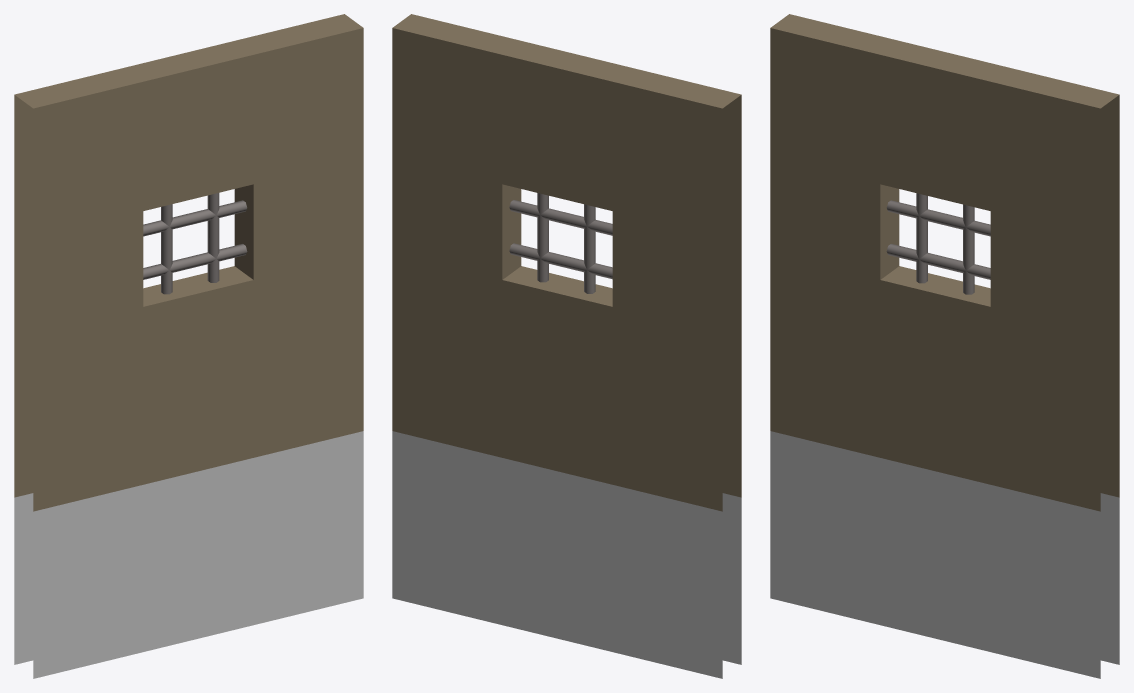
File: SM_Wall_Window_200.FBX
The picture shows the model from 3 angles, left to right: view 1: azimuth 30°, elevation 25°; view 2: azimuth 150°, elevation 25°; view 3: azimuth 330°, elevation 25°; orthographic projection.
Parts seen in each view (by area): view 1: SM_Wall_Window_200; view 2: SM_Wall_Window_200; view 3: SM_Wall_Window_200.
Part boxes in pixels (<box>): SM_Wall_Window_200: <box>14,14,363,678</box>; SM_Wall_Window_200: <box>392,14,741,678</box>; SM_Wall_Window_200: <box>770,14,1119,678</box>.
Bounding box in the file's own units: 200 × 20 × 330.
